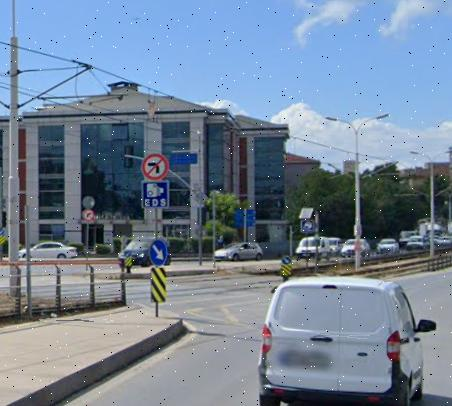leftturnsareforbidden: (146, 152, 167, 179)
